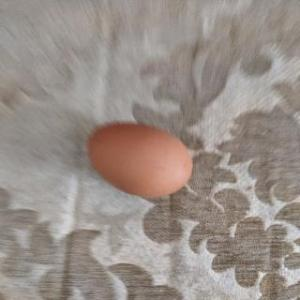egg: (88, 122, 192, 198)
